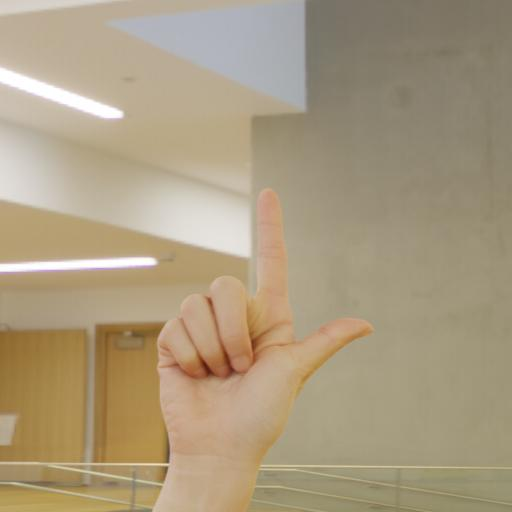L: (154, 184, 376, 464)
